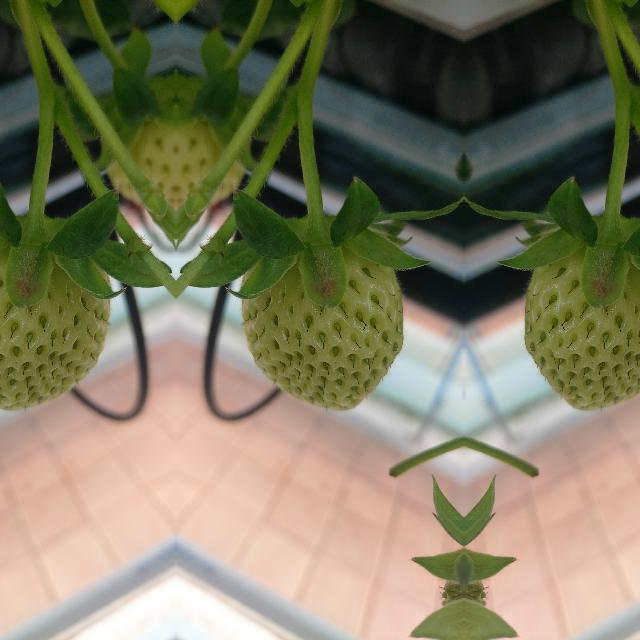Health_25: (240, 245, 402, 410), (524, 244, 640, 409), (0, 244, 110, 409)
